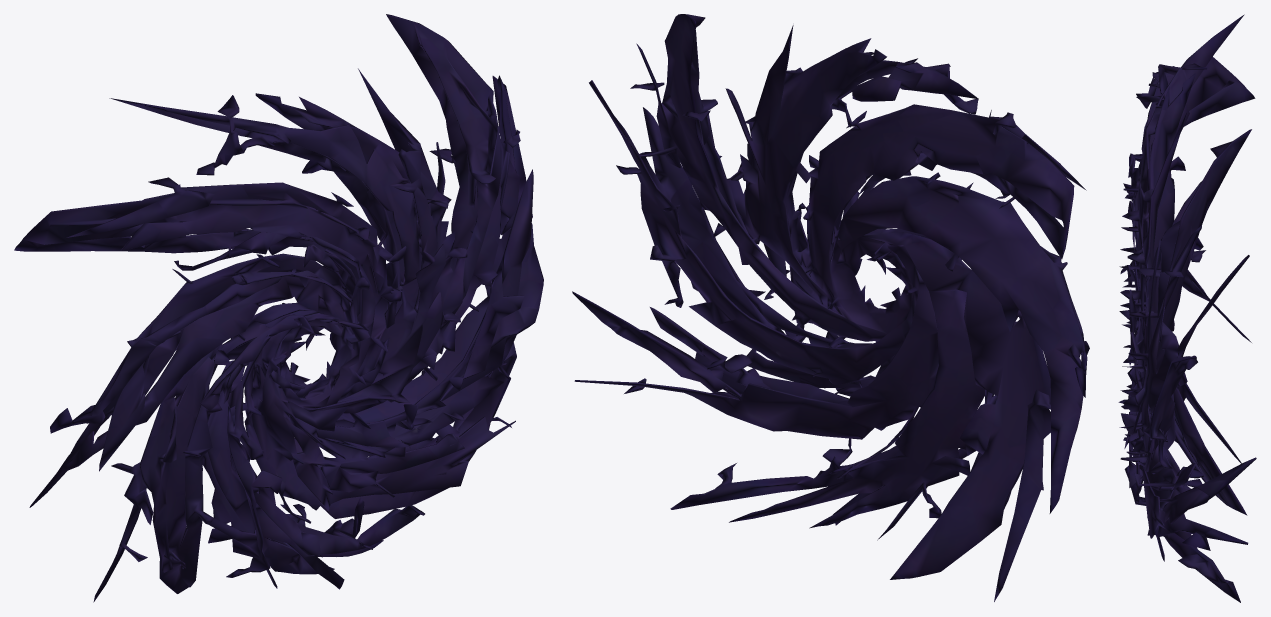
Rendered from dark_x.glb.
The picture shows the model from 3 angles, left to right: view 1: azimuth 30°, elevation 25°; view 2: azimuth 150°, elevation 25°; view 3: azimuth 270°, elevation 25°; orthographic projection. The views are drawn at different scales.
Visible parts, largest first — view 1: tripo_node_7a8e808d-70cf-4761-86d8-0a872a59b3b0; view 2: tripo_node_7a8e808d-70cf-4761-86d8-0a872a59b3b0; view 3: tripo_node_7a8e808d-70cf-4761-86d8-0a872a59b3b0.
Boxes of the visible parts, x1,y1,x2,y2 form: tripo_node_7a8e808d-70cf-4761-86d8-0a872a59b3b0: (14,14,543,602); tripo_node_7a8e808d-70cf-4761-86d8-0a872a59b3b0: (572,14,1089,601); tripo_node_7a8e808d-70cf-4761-86d8-0a872a59b3b0: (1118,14,1256,602).
Bounding box in the file's own units: 0.974 × 0.9773 × 0.2584.
Materials: 1 (1 with a texture image).
